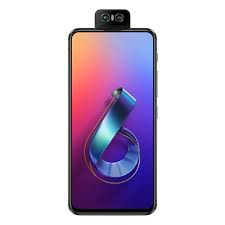asus: (65, 24, 161, 217)
